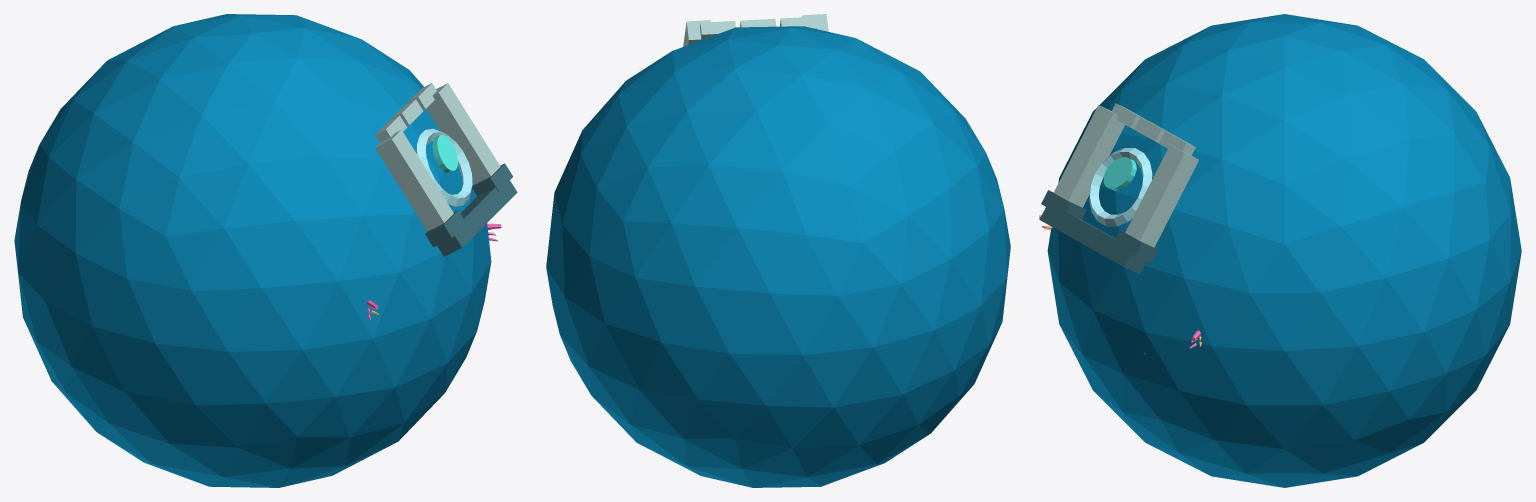
File: Ocean_09.fbx
The picture shows the model from 3 angles, left to right: view 1: azimuth 30°, elevation 25°; view 2: azimuth 150°, elevation 25°; view 3: azimuth 270°, elevation 25°; orthographic projection. The views are drawn at different scales.
Parts seen in each view (by area): view 1: Ocean_09; view 2: Ocean_09; view 3: Ocean_09.
Boxes of the visible parts, x1=… form: Ocean_09: x1=14, y1=14, x2=517, y2=487; Ocean_09: x1=546, y1=14, x2=1010, y2=487; Ocean_09: x1=1039, y1=14, x2=1521, y2=487.
Bounding box in the file's own units: 6 × 6 × 6.11.
1 material, 1 textured.
